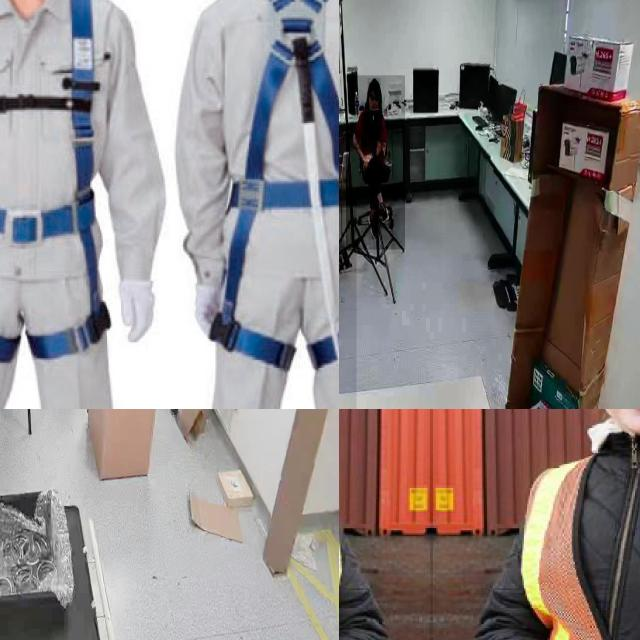Harness: (213, 0, 339, 371), (0, 0, 111, 364)
face_nomask: (368, 93, 378, 111)
hand_noglove: (361, 154, 371, 172), (361, 152, 371, 162)
head_nohelmet: (367, 78, 381, 90)
person: (346, 76, 406, 250)
shoes: (376, 196, 392, 229), (368, 208, 382, 240)
